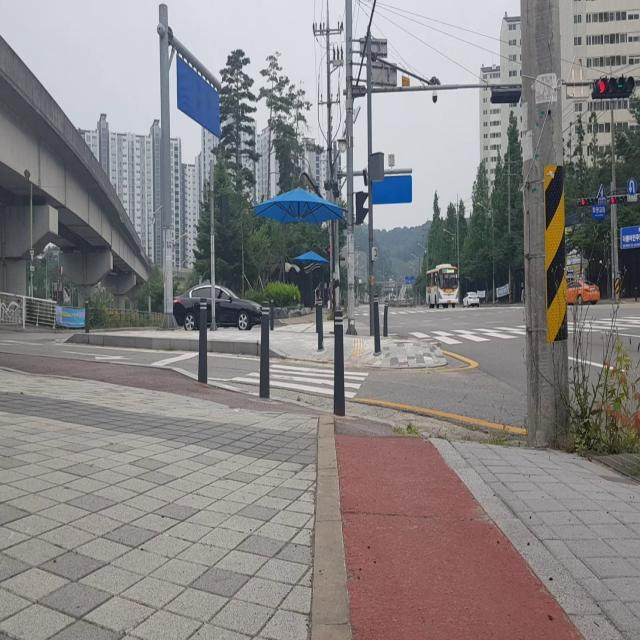빨간불: (327, 245, 331, 260)
횡단보도: (402, 315, 640, 346), (230, 363, 370, 399)
